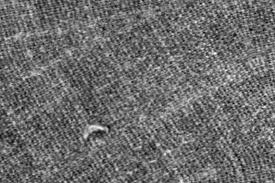snag: (82, 123, 115, 145)
